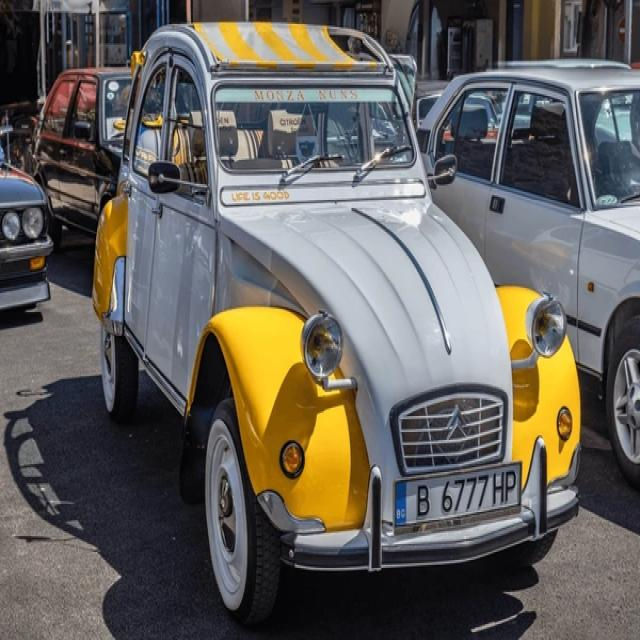citroen: (444, 402, 469, 446)
